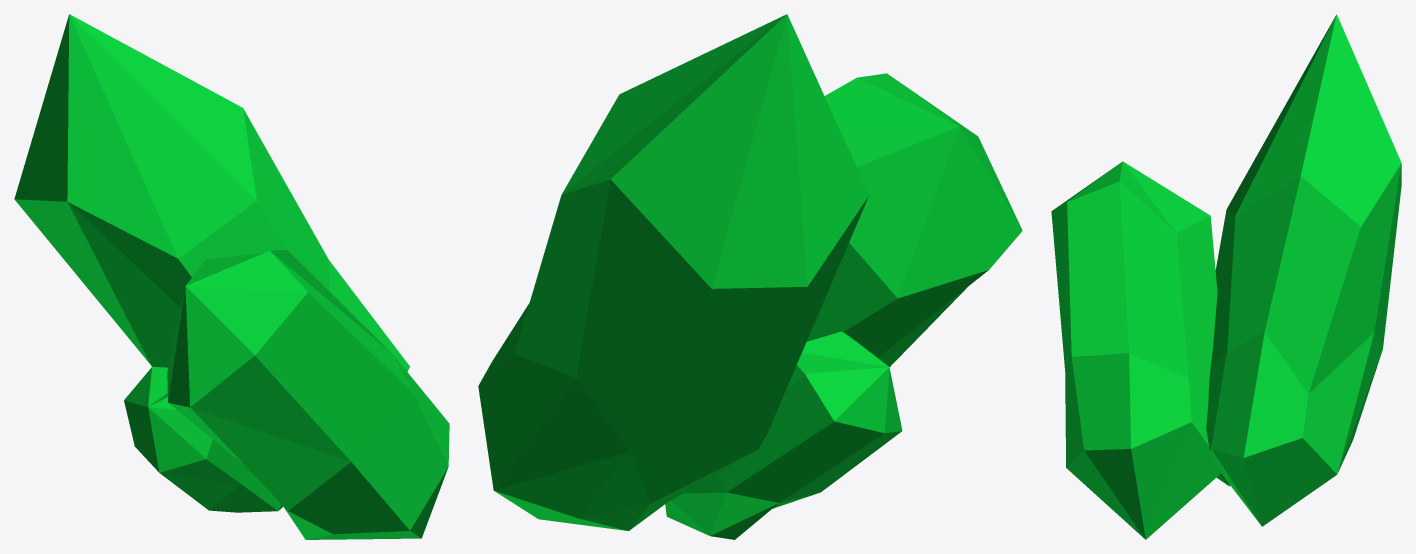
Rendered from ballcrystal 4.fbx.
3 renders of one model, left to right at view 1: azimuth 30°, elevation 25°; view 2: azimuth 150°, elevation 25°; view 3: azimuth 270°, elevation 25°, orthographic. The views are drawn at different scales.
Parts seen in each view (by area): view 1: ball crystal4; view 2: ball crystal4; view 3: ball crystal4.
Boxes of the visible parts, x1,y1,x2,y2 form: ball crystal4: [14, 14, 449, 539]; ball crystal4: [478, 14, 1022, 539]; ball crystal4: [1051, 14, 1401, 539].
Bounding box in the file's own units: 26.98 × 40.17 × 29.91.
